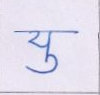u_matra: (25, 55, 61, 75)
